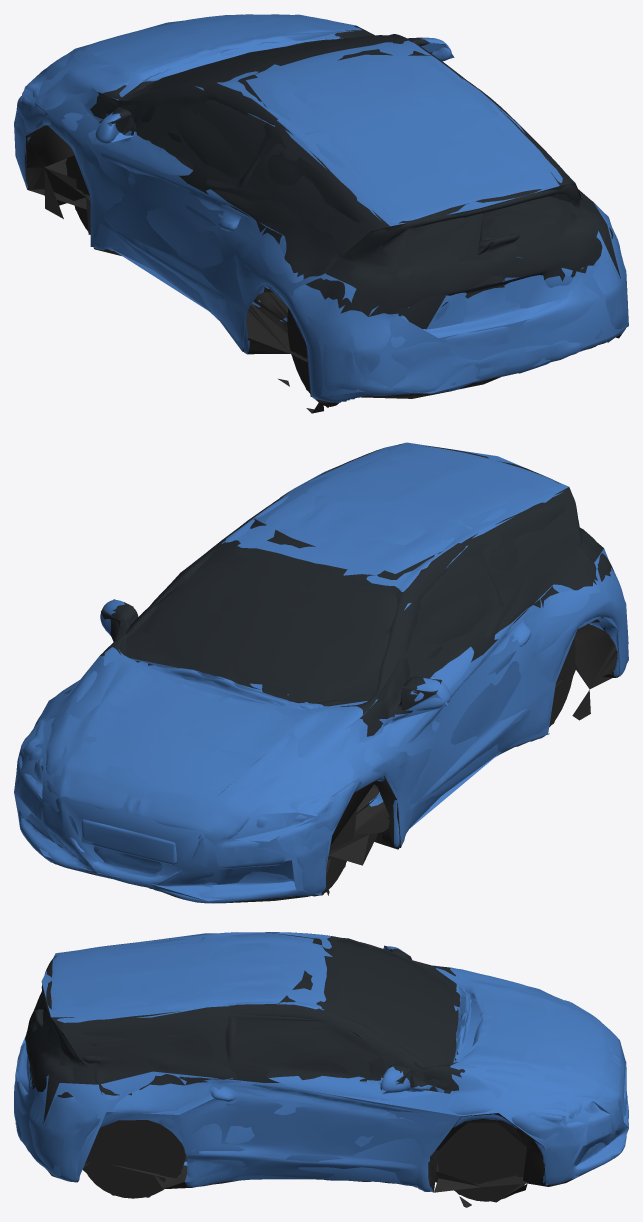
Rendered from honda-cr-z.glb.
3 views of the same model, one above another, from view 1: azimuth 30°, elevation 25°; view 2: azimuth 150°, elevation 25°; view 3: azimuth 270°, elevation 25° (orthographic). The views are drawn at different scales.
Visible parts, largest first — view 1: body, far; view 2: body, far; view 3: body, far.
Part boxes in pixels (<box>): body: <box>14,14,628,413</box>; far: <box>14,14,628,407</box>; body: <box>16,445,628,903</box>; far: <box>14,442,628,901</box>; body: <box>14,932,628,1207</box>; far: <box>14,932,628,1202</box>.
Size of the model in its own units: 2.22 by 1.42 by 4.14.
